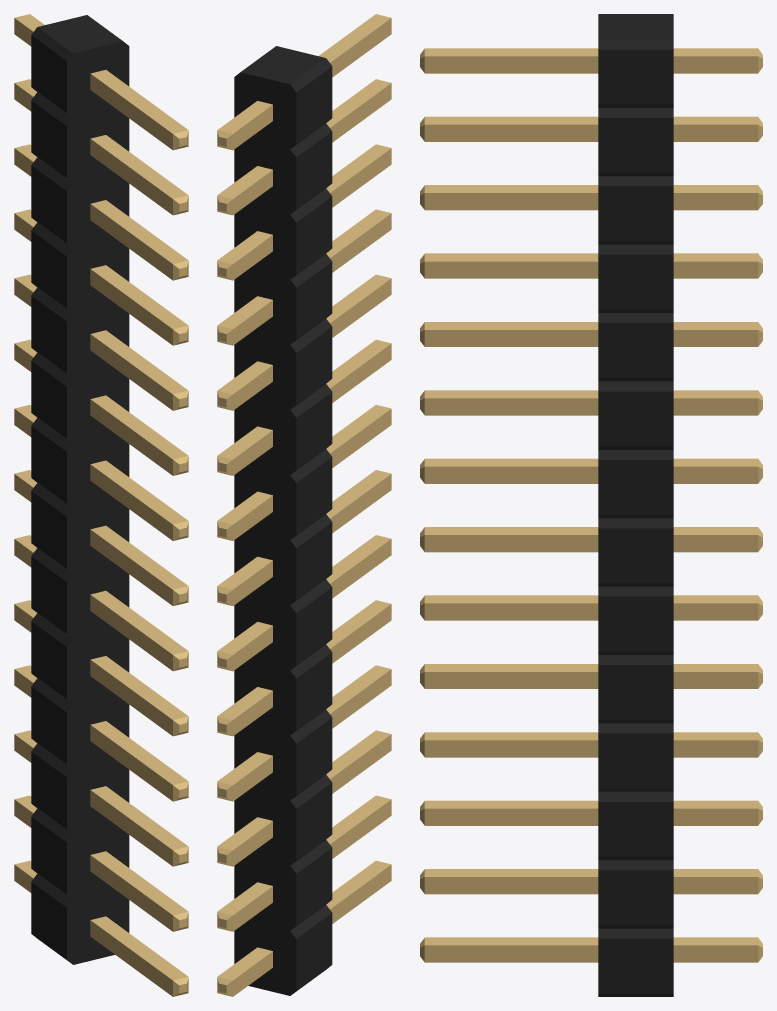
The model's file is PinHeader_1x14_P2.54mm_Vertical-39dfd3637dd6.glb.
3 views of the same model, side by side, from view 1: azimuth 30°, elevation 25°; view 2: azimuth 150°, elevation 25°; view 3: azimuth 270°, elevation 25° (orthographic). The views are drawn at different scales.
Parts seen in each view (by area): view 1: material0, material1; view 2: material0, material1; view 3: material1, material0.
Boxes of the visible parts, x1,y1,x2,y2 form: material0: (31, 15, 129, 964); material1: (14, 14, 188, 996); material0: (234, 46, 332, 995); material1: (217, 14, 391, 996); material1: (420, 48, 762, 962); material0: (598, 14, 673, 996).
Size of the model in its own units: 2.54 by 35.56 by 11.54.
